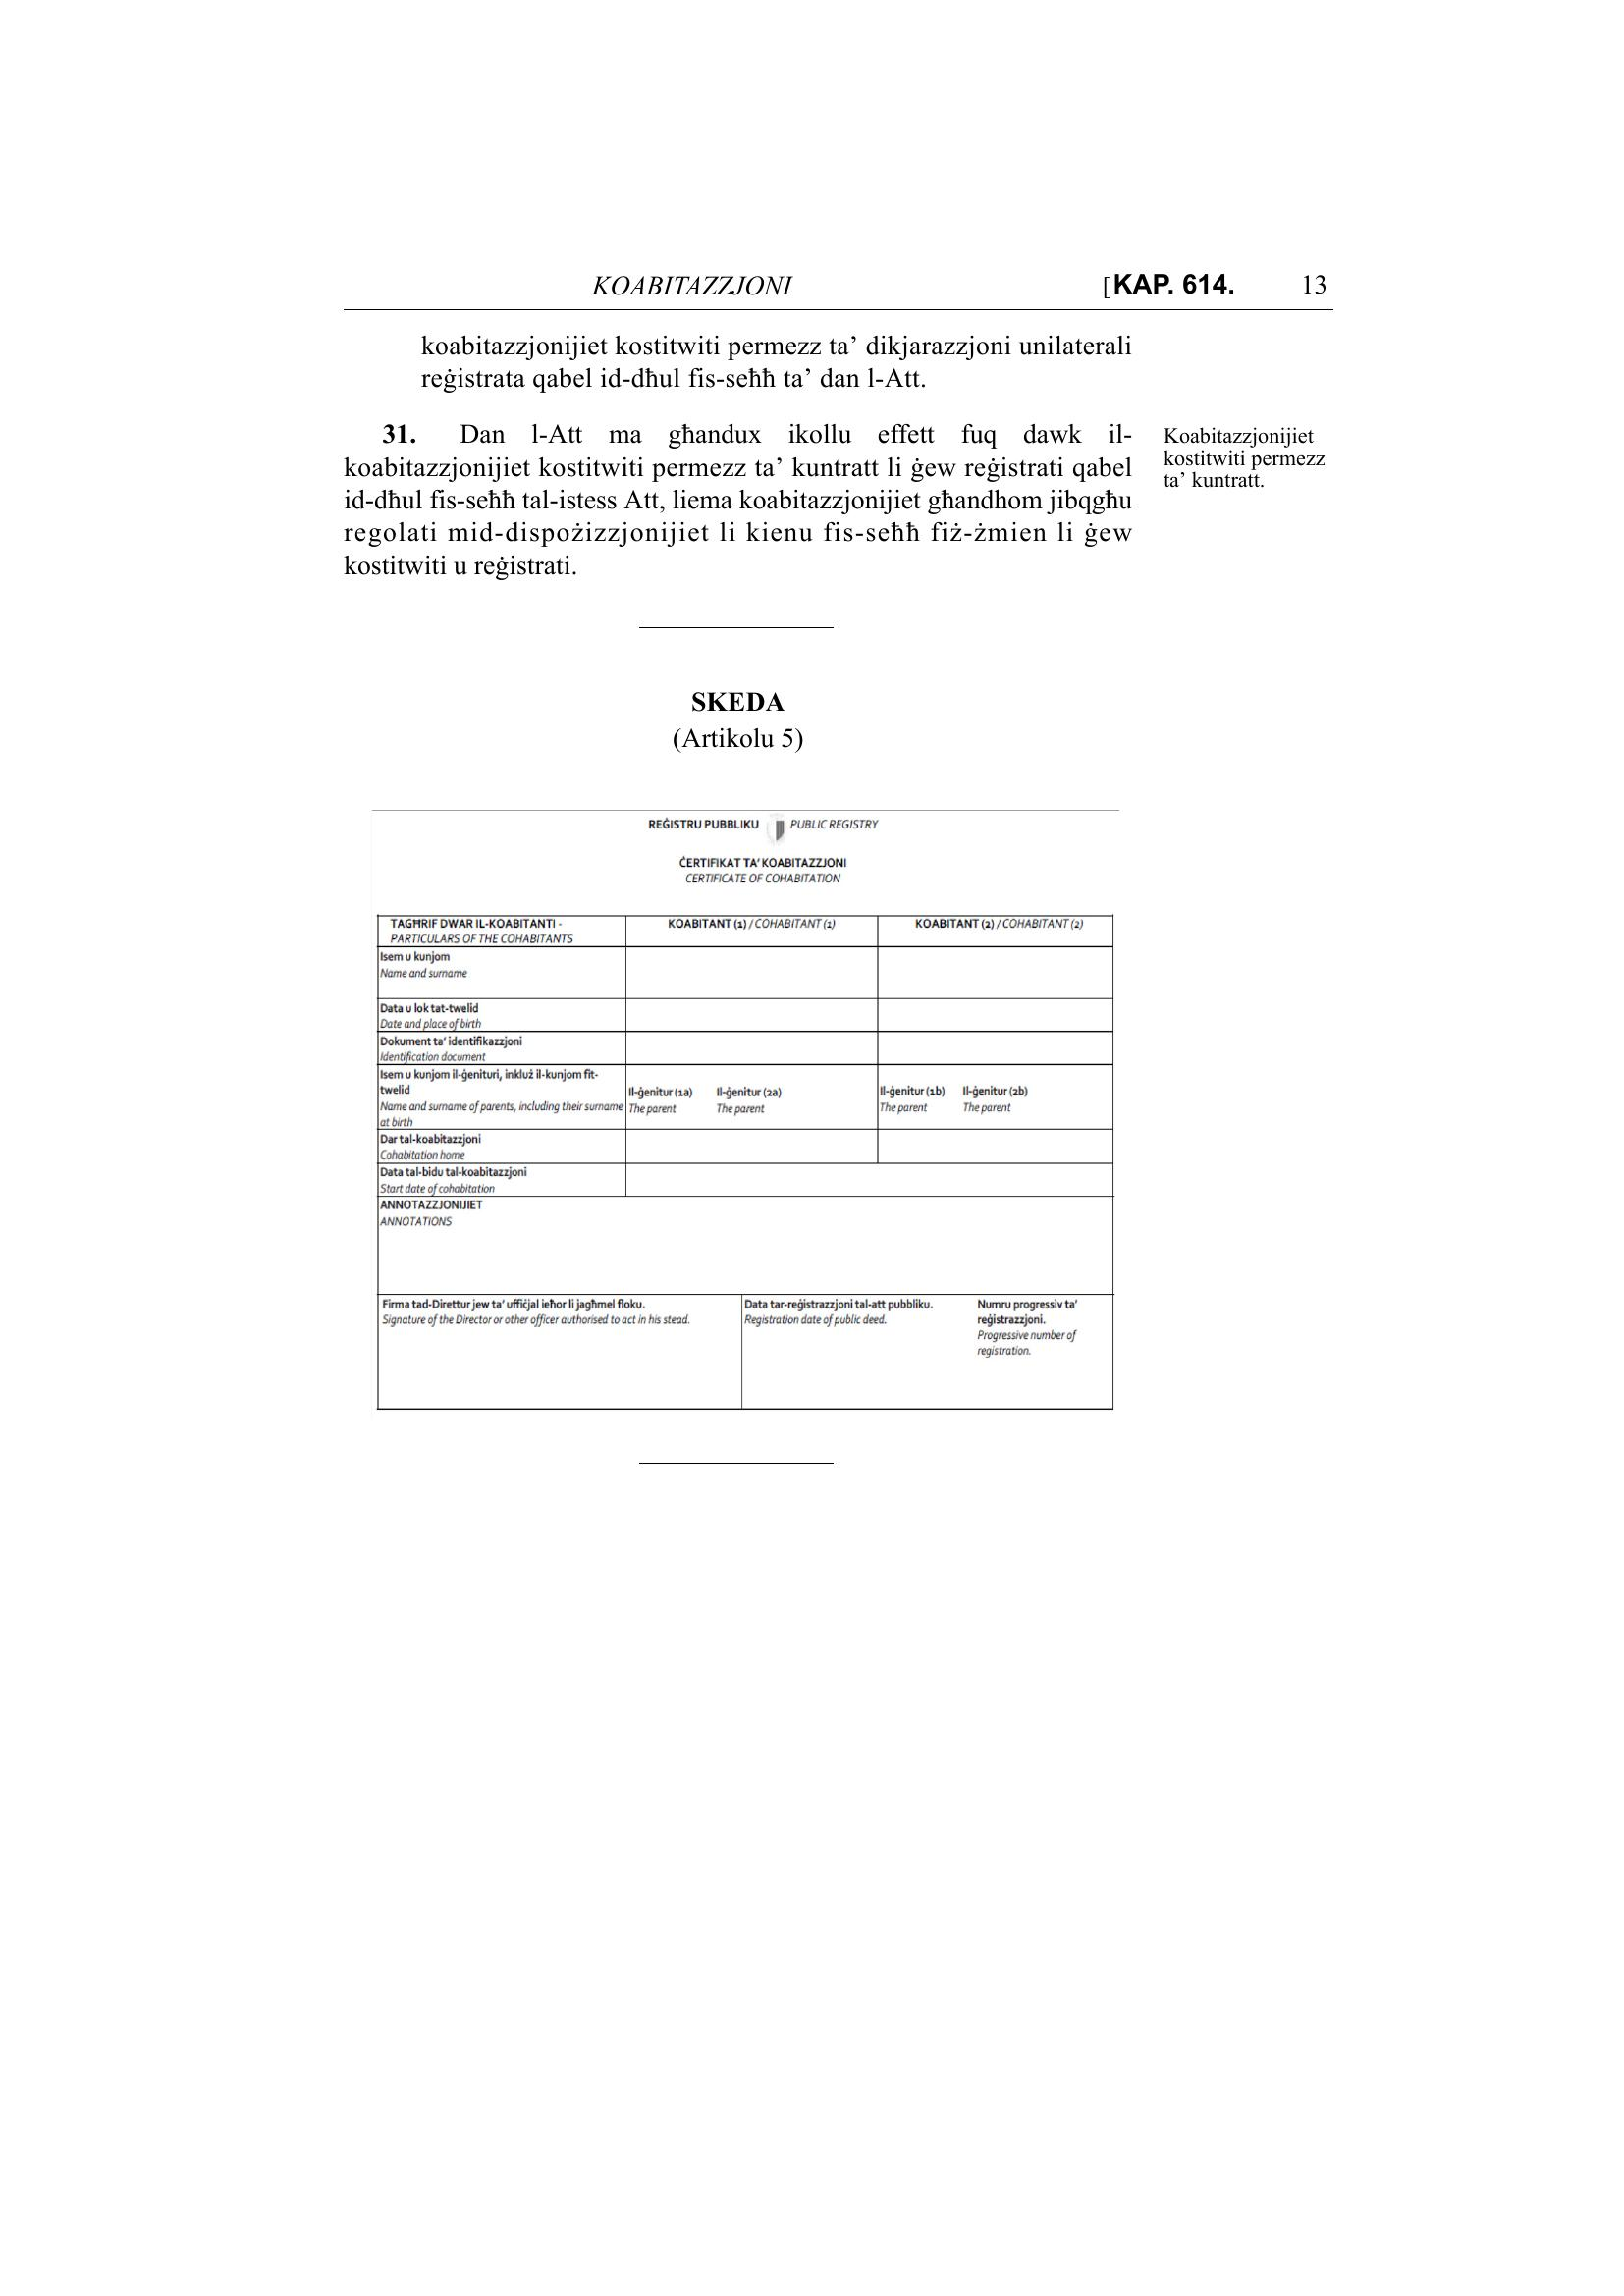text: (332, 321, 1149, 775)
